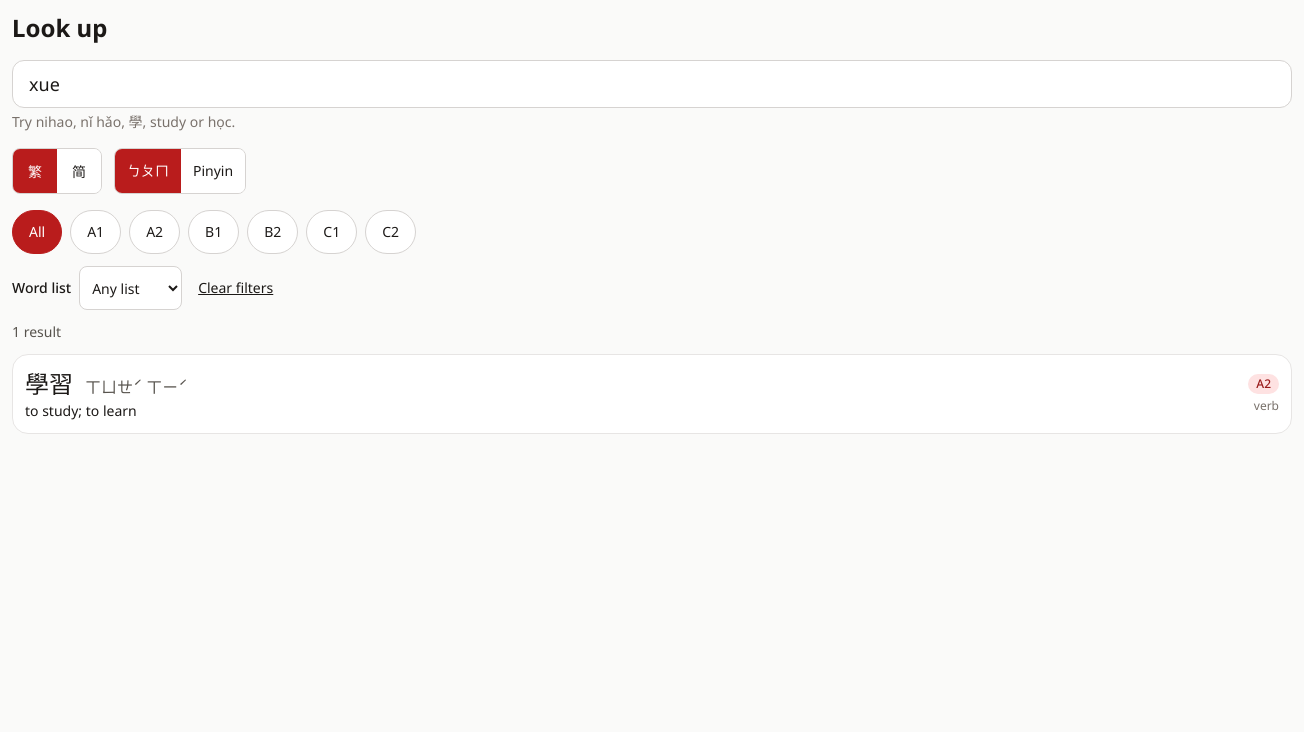
Test: searching › returns to the browse view when the box is cleared
Clear the search field at (652, 84), box [12,60,1292,108]
Wait 400 ms
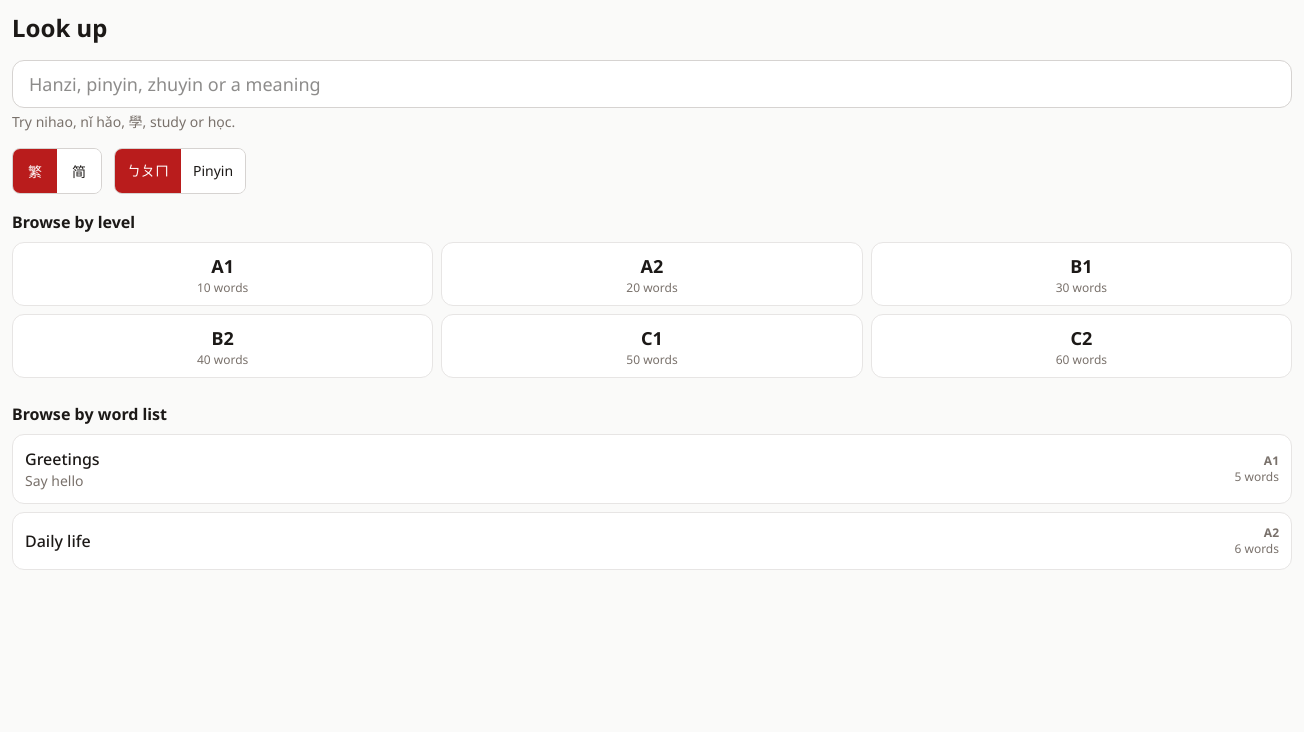
Expected: the text "Browse by level" is shown, [12,211,135,233]
